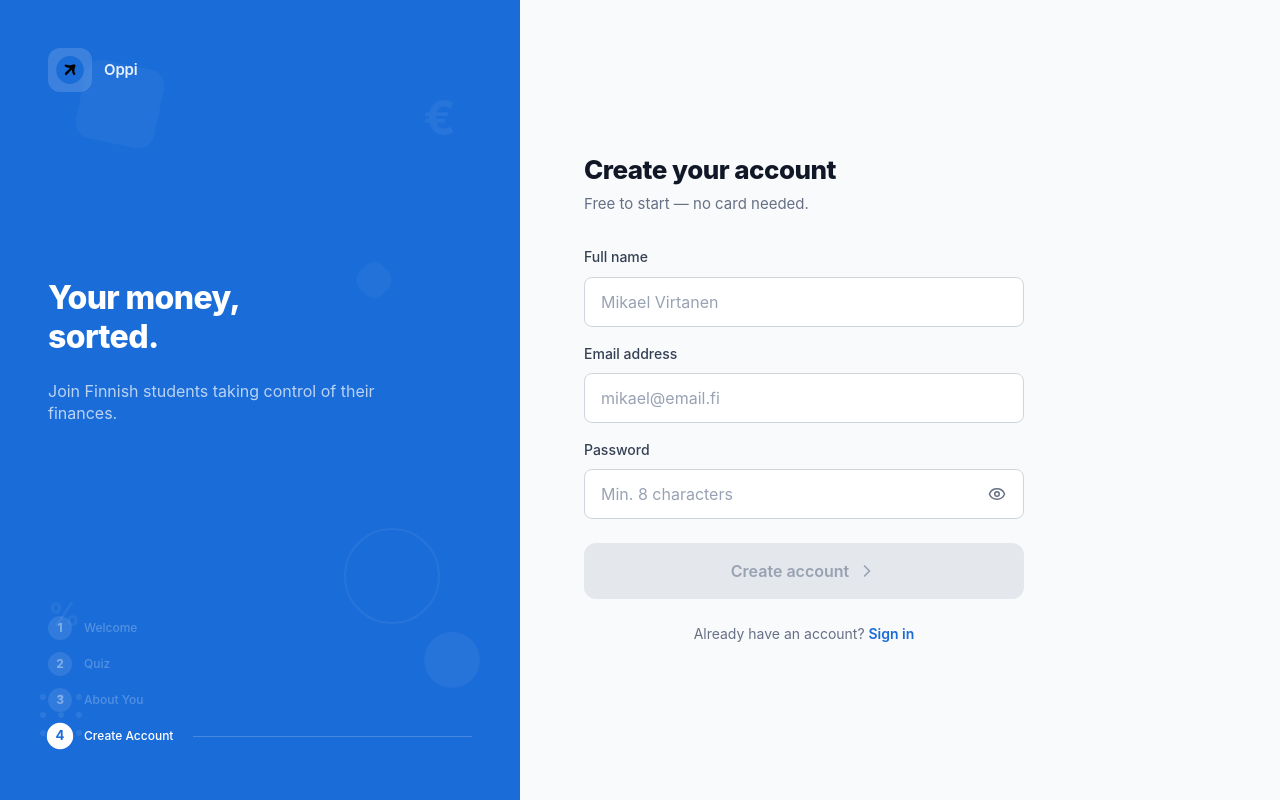
SignupPage — form reset › clears the email error as soon as the user edits the email field
In the field labelled "Full name": (804, 302) [585,278,1023,326], type "Mikael"
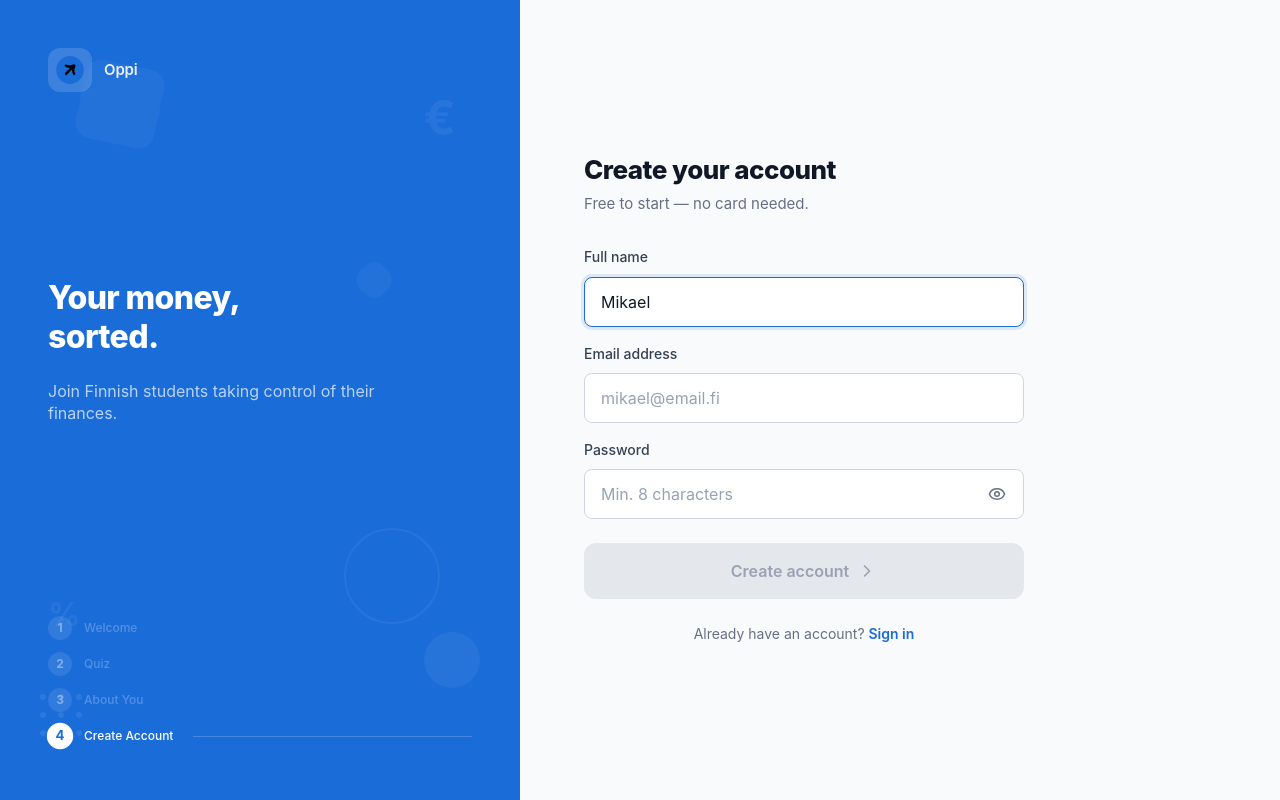
In the field labelled "Email address": (804, 398) [585,374,1023,422], type "bad"
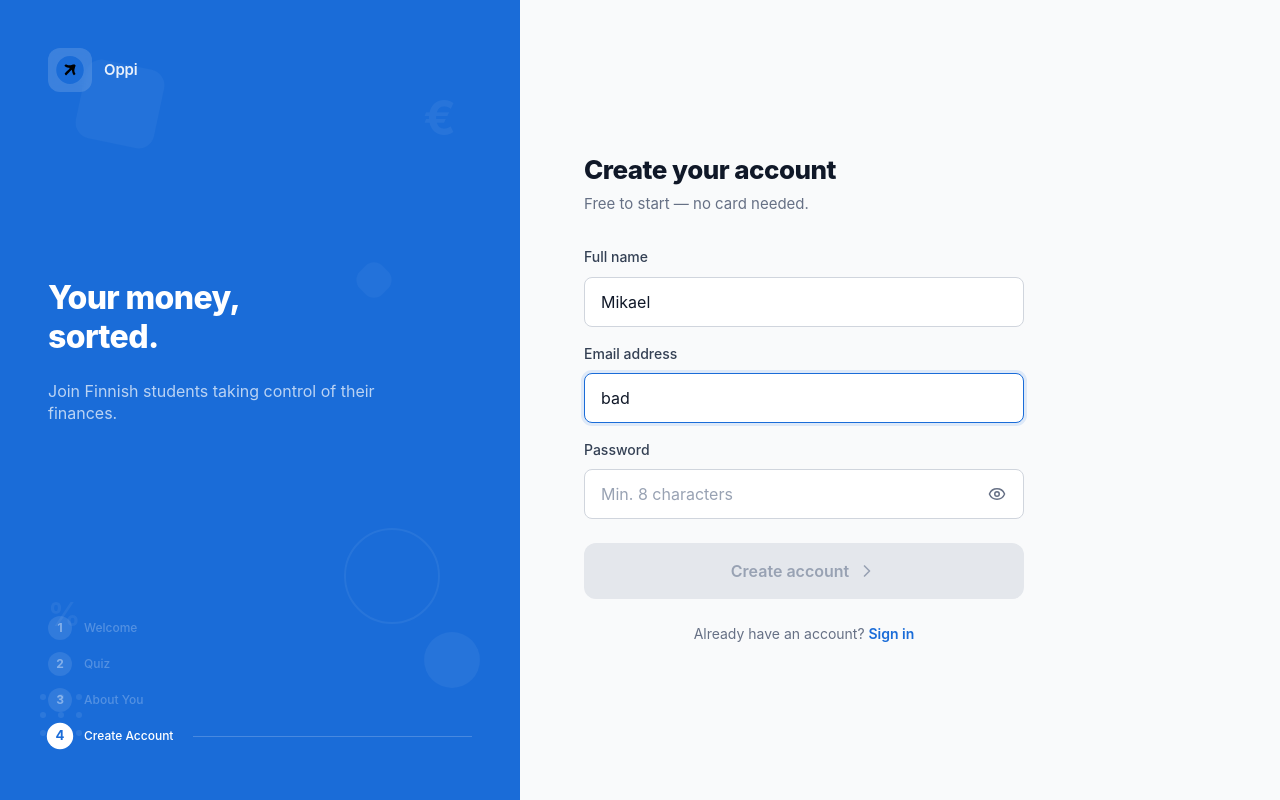
In the password field labelled "Password": (780, 494) [585,470,975,518], type "short"
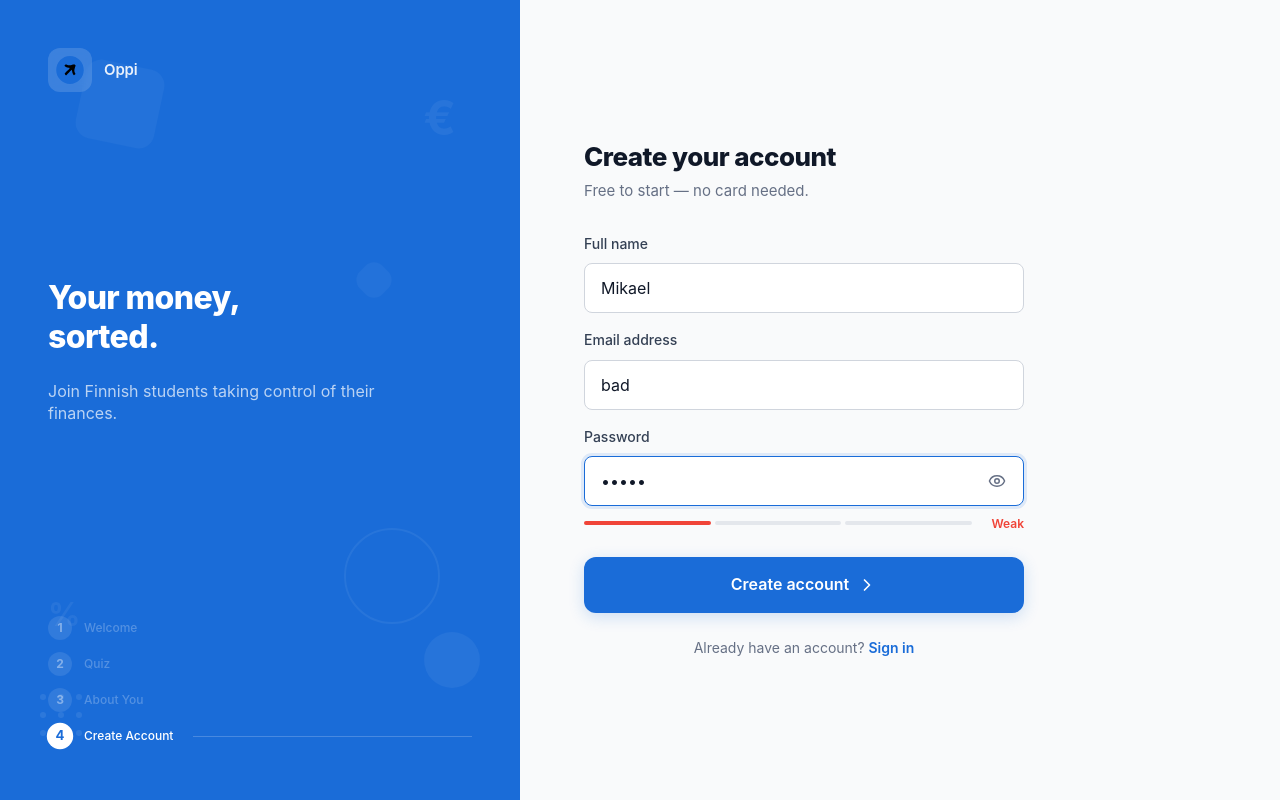
Click the button "Create account": (804, 585) [584,557,1024,613]
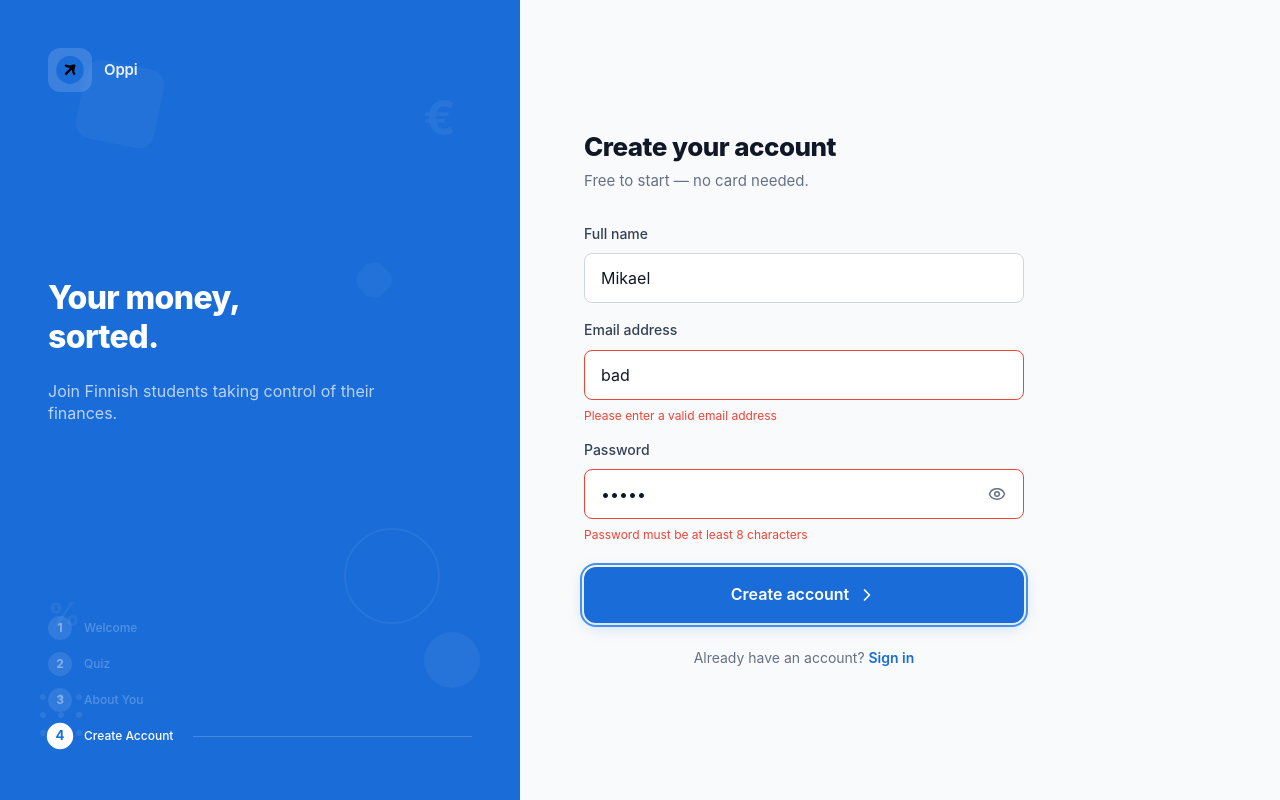
Expected: the text "Please enter a valid email address" is shown, [584,408,777,422]
In the field labelled "Email address": (804, 374) [585,350,1023,398], type "x"
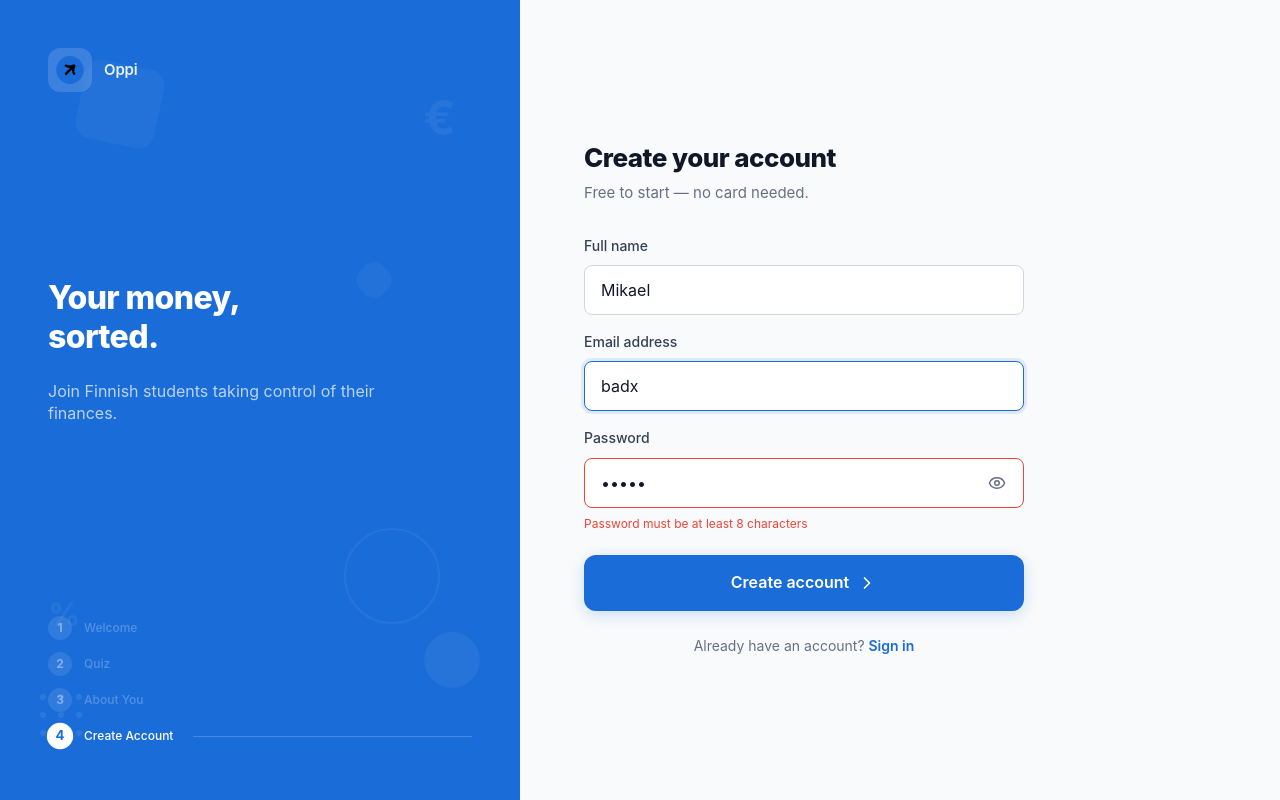
Expected: the text "Please enter a valid email address" is gone
